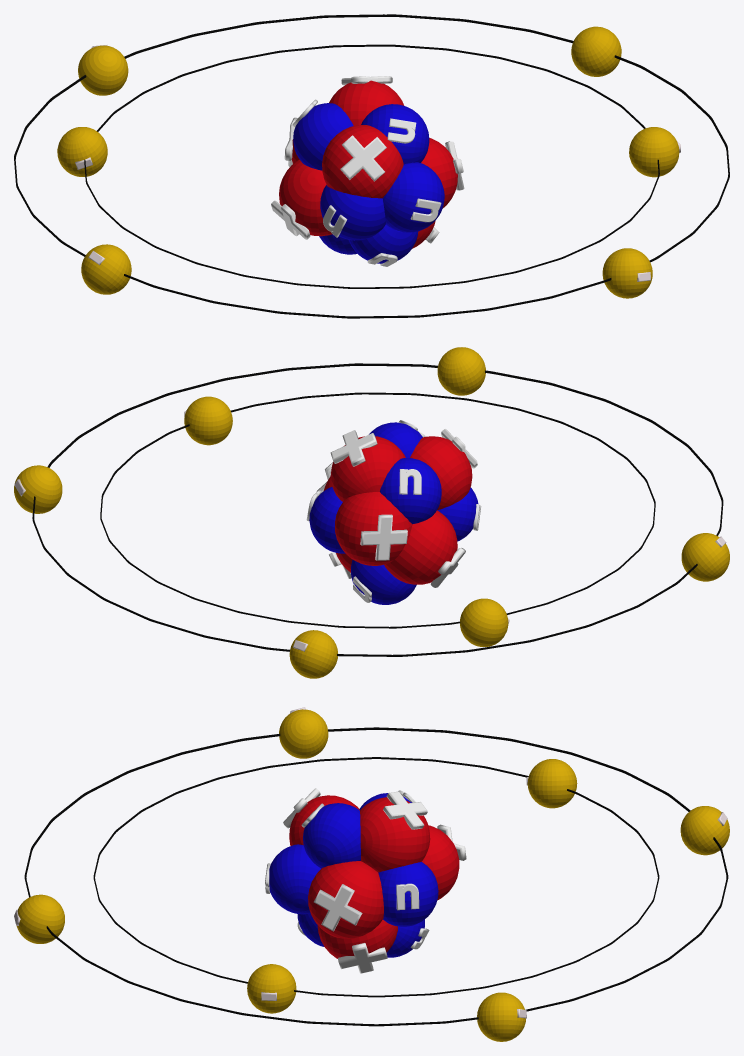
3 views of the same model, one above another, from view 1: azimuth 30°, elevation 25°; view 2: azimuth 150°, elevation 25°; view 3: azimuth 270°, elevation 25° (orthographic). The views are drawn at different scales.
Parts seen in each view (by area): view 1: Circle.001, Sphere.014, Circle, Sphere.012, Sphere.011, Sphere.015, Sphere.018, Sphere.013, Sphere.016, Sphere.003, Sphere.008, Sphere.006 (+8 smaller); view 2: Circle.001, Sphere.005, Sphere.011, Circle, Sphere.007, Sphere.014, Sphere.015, Sphere.003, Sphere.006, Sphere.002, Sphere.010, Sphere.016 (+7 smaller); view 3: Circle.001, Sphere, Sphere.007, Sphere.008, Circle, Sphere.001, Sphere.012, Sphere.010, Sphere.002, Sphere.013, Sphere.006, Sphere.016 (+8 smaller).
Part boxes in pixels (x1,y1,x2,y2): Circle.001: (14, 14, 729, 318); Sphere.014: (322, 125, 403, 198); Circle: (84, 44, 659, 288); Sphere.012: (382, 162, 444, 232); Sphere.011: (279, 159, 332, 236); Sphere.015: (293, 103, 353, 170); Sphere.018: (320, 185, 385, 240); Sphere.013: (571, 26, 621, 76); Sphere.016: (78, 45, 128, 95); Sphere.003: (629, 127, 679, 177); Sphere.008: (361, 104, 429, 164); Sphere.006: (602, 248, 652, 298); Circle.001: (32, 363, 723, 656); Sphere.005: (335, 492, 412, 565); Sphere.011: (384, 510, 457, 584); Circle: (100, 392, 655, 628); Sphere.007: (330, 436, 405, 501); Sphere.014: (410, 436, 472, 510); Sphere.015: (380, 458, 441, 524); Sphere.003: (184, 396, 232, 445); Sphere.006: (437, 347, 485, 395); Sphere.002: (460, 598, 508, 646); Sphere.010: (681, 533, 729, 581); Sphere.016: (289, 630, 337, 678); Circle.001: (24, 727, 728, 1026); Sphere: (308, 861, 383, 938); Sphere.007: (360, 797, 430, 872); Sphere.008: (303, 803, 360, 868); Circle: (93, 757, 659, 997); Sphere.001: (378, 862, 438, 926); Sphere.012: (269, 844, 320, 914); Sphere.010: (279, 709, 328, 758); Sphere.002: (527, 759, 577, 808); Sphere.013: (477, 992, 525, 1041); Sphere.006: (16, 894, 64, 943); Sphere.016: (680, 806, 729, 855).
Bounding box in the file's own units: 73.22 × 18.91 × 72.87.
